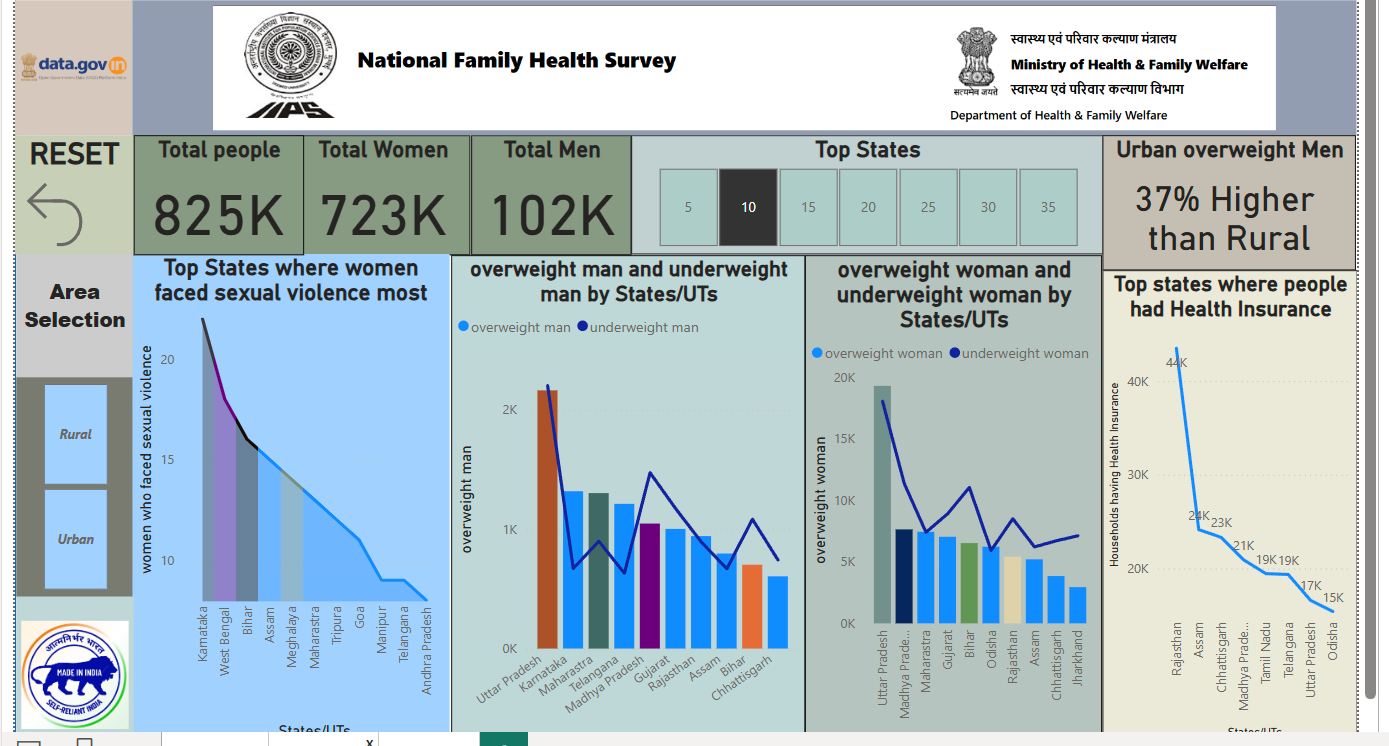

This screenshot's page, from the dashboard's own definition file:
{"tool":"powerbi","page":{"name":"Report 2","canvas":[1280,720],"ordinal":1},"visuals":[{"type":"shape","box":[0,0,112.3,720.9],"z":0},{"type":"card","title":"Total Men","fields":{"Values":["Sum(healthcare_project_dataset.Men)"]},"box":[434.7,129.8,152.9,114.4],"z":1000},{"type":"card","title":"Total Women","fields":{"Values":["Sum(healthcare_project_dataset.Women)"]},"box":[267.3,129.8,167.3,114.4],"z":2000},{"type":"slicer","fields":{"Values":["healthcare_project_dataset.Area"]},"box":[1.1,359.9,111.2,210.2],"z":3000},{"type":"lineClusteredColumnComboChart","fields":{"Y":["healthcare_project_dataset.overweight man"],"Category":["healthcare_project_dataset.States/UTs"],"Y2":["healthcare_project_dataset.underweight man"]},"box":[415.4,244.3,337.6,476],"z":4000},{"type":"slicer","title":"Top States","fields":{"Values":["TopN.TopN"]},"box":[587.5,130,450,113.8],"z":5000},{"type":"lineStackedColumnComboChart","fields":{"Y":["healthcare_project_dataset.overweight woman"],"Category":["healthcare_project_dataset.States/UTs"],"Y2":["healthcare_project_dataset.underweight woman"]},"box":[753.3,244.7,283.2,476],"z":6000},{"type":"areaChart","title":"Top States where women faced sexual violence most","fields":{"Category":["healthcare_project_dataset.States/UTs"],"Y":["healthcare_project_dataset.women who faced sexual violence"]},"box":[112.5,243.8,302.5,476.2],"z":7000},{"type":"image","box":[112.5,1.2,1167.5,128.8],"z":8000},{"type":"image","box":[0,1.1,112.3,128.8],"z":9000},{"type":"textbox","box":[1,243.3,111.6,117.3],"z":10000},{"type":"image","box":[1.1,570.1,112.3,149.7],"z":11000},{"type":"lineChart","title":"Top states where people had Health Insurance","fields":{"Y":["healthcare_project_dataset.health insurance"],"Category":["healthcare_project_dataset.States/UTs"]},"box":[1037.1,258.7,243.2,461.3],"z":12000},{"type":"actionButton","title":"RESET","box":[0,130,113.8,113.8],"z":13000},{"type":"card","title":"Urban overweight Men","fields":{"Values":["healthcare_project_dataset.Overweight_Rural_vs_Urban_Text"]},"box":[1037.1,129.9,242,128.7],"z":14000},{"type":"card","title":"Total people","fields":{"Values":["Sum(healthcare_project_dataset.Total people)"]},"box":[113.2,129.9,162.1,114.4],"z":15000}]}

Visuals, with their boxes on the page's 1280x720 design canvas (x1, y1, x2, y2). These are canvas units, not pixel positions in the 1389x746 screenshot, which may show the page scaled, cropped or inside an application window:
shape: (left=0, top=0, right=112, bottom=721)
"Total Men" card: (left=435, top=130, right=588, bottom=244)
"Total Women" card: (left=267, top=130, right=435, bottom=244)
slicer - healthcare_project_dataset.Area: (left=1, top=360, right=112, bottom=570)
lineClusteredColumnComboChart - healthcare_project_dataset.overweight man x healthcare_project_dataset.States/UTs: (left=415, top=244, right=753, bottom=720)
"Top States" slicer: (left=588, top=130, right=1038, bottom=244)
lineStackedColumnComboChart - healthcare_project_dataset.overweight woman x healthcare_project_dataset.States/UTs: (left=753, top=245, right=1036, bottom=721)
"Top States where women faced sexual violence most" areaChart: (left=112, top=244, right=415, bottom=720)
image: (left=112, top=1, right=1280, bottom=130)
image: (left=0, top=1, right=112, bottom=130)
textbox: (left=1, top=243, right=113, bottom=361)
image: (left=1, top=570, right=113, bottom=720)
"Top states where people had Health Insurance" lineChart: (left=1037, top=259, right=1280, bottom=720)
"RESET" actionButton: (left=0, top=130, right=114, bottom=244)
"Urban overweight Men" card: (left=1037, top=130, right=1279, bottom=259)
"Total people" card: (left=113, top=130, right=275, bottom=244)
